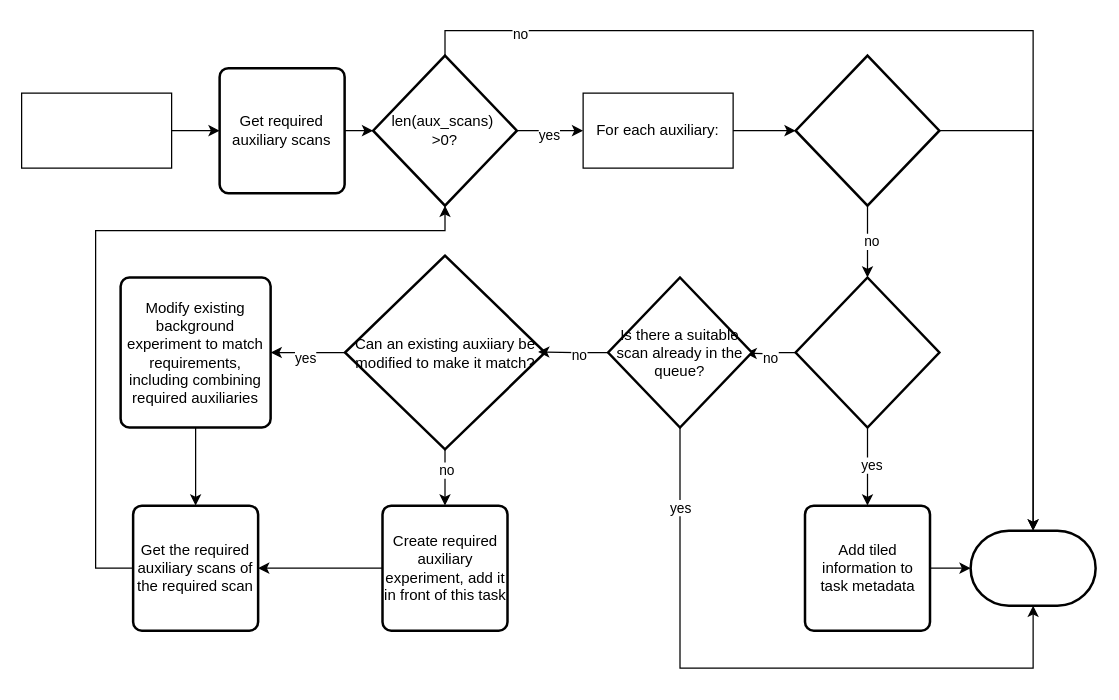
The diagram is 1119 pixels wide and 700 high, and some of its shapes have lost their labels. The box of each missing label's shape, as (x1, y1, x2, y2) in pixels:
end: (969, 529, 1096, 606)
For each task:: (20, 92, 172, 168)
Is current task suitable?: (794, 54, 940, 206)
Is there a suitable scan in tiled?: (794, 276, 940, 428)
